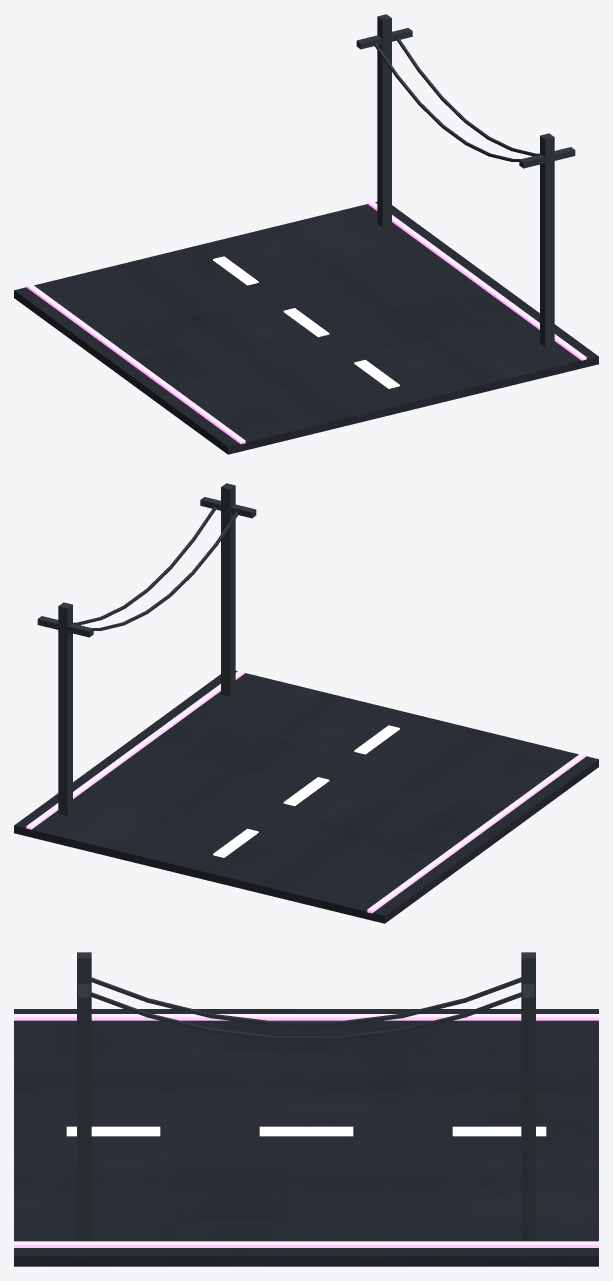
Rendered from decor-road-poles.glb.
3 renders of one model, top to bottom at view 1: azimuth 30°, elevation 25°; view 2: azimuth 150°, elevation 25°; view 3: azimuth 270°, elevation 25°, orthographic. The views are drawn at different scales.
Parts seen in each view (by area): view 1: DecorRoadPoles; view 2: DecorRoadPoles; view 3: DecorRoadPoles.
Boxes of the visible parts, <box> form: DecorRoadPoles: <box>14,14,598,454</box>; DecorRoadPoles: <box>14,483,598,923</box>; DecorRoadPoles: <box>14,952,598,1266</box>.
Bounding box in the file's own units: 1 × 0.555 × 1.
Materials: 4 (1 with a texture image).
